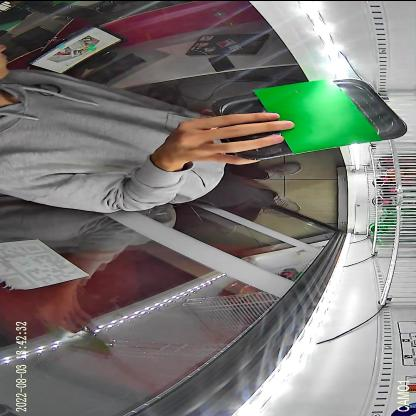green: (209, 76, 408, 160)
